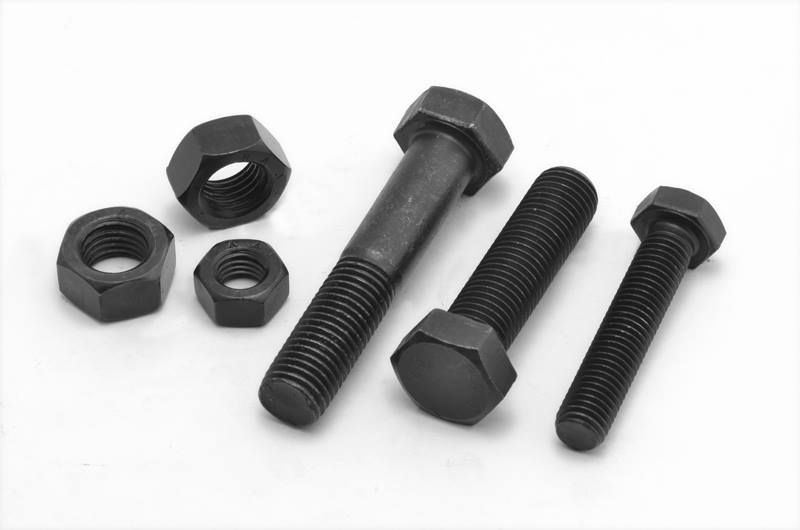screw: (257, 85, 514, 429), (389, 165, 598, 425), (555, 185, 727, 453)
